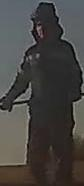gloves: (0, 90, 17, 113)
vest: (19, 40, 79, 122)
